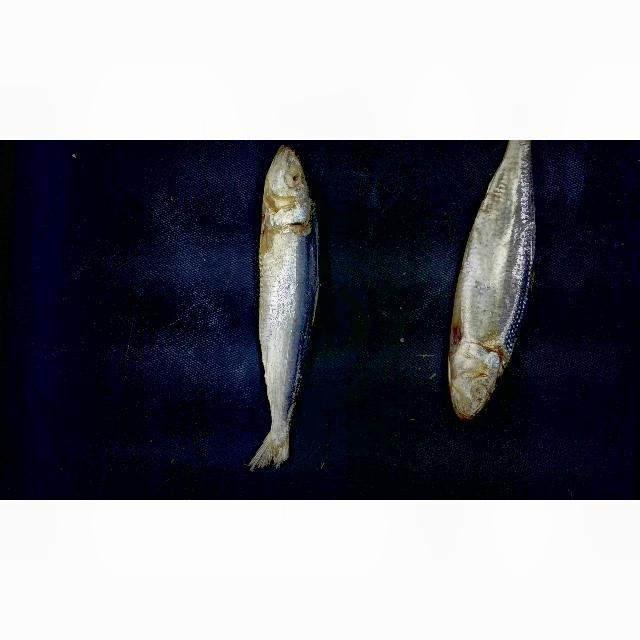Grade_A_Body: (451, 169, 532, 336), (254, 231, 322, 398)
Grade_A_Head: (249, 145, 341, 227), (435, 340, 517, 424)
Grade_A_Tail: (247, 396, 316, 479)
